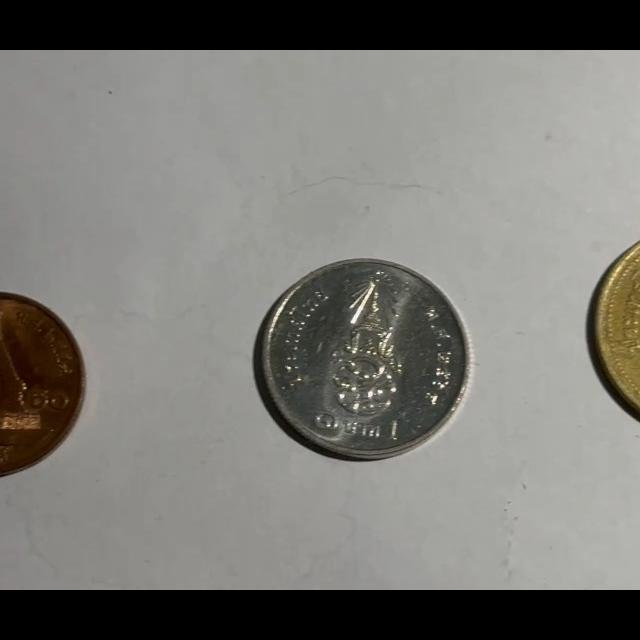1-baht: (254, 259, 471, 463)
2-baht: (587, 221, 640, 438)
50-satang: (0, 292, 84, 477)
